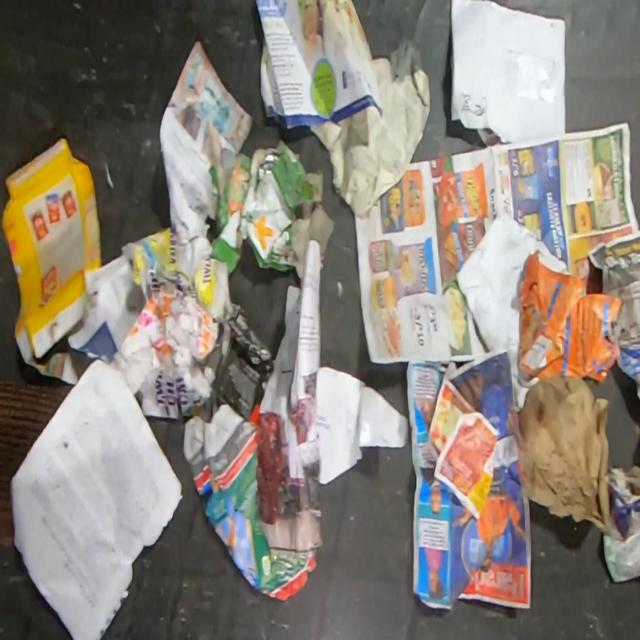cardboard: (1, 137, 102, 367), (0, 376, 77, 548)
metal: (256, 152, 279, 185)
